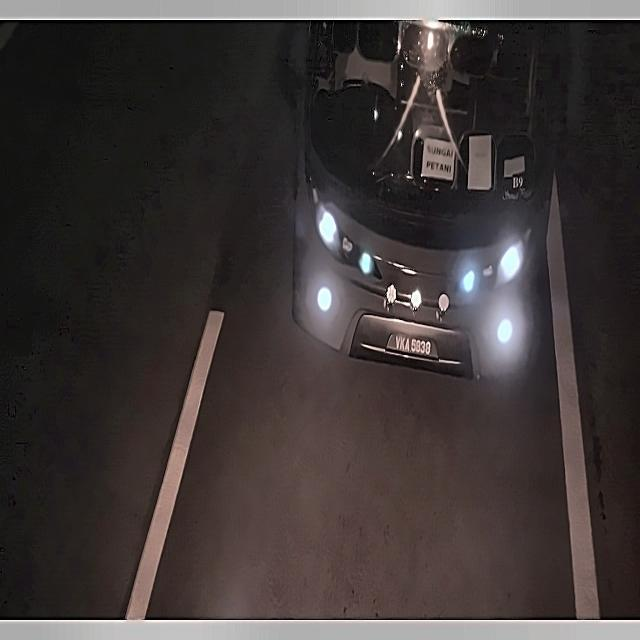car: (387, 326, 439, 366)
